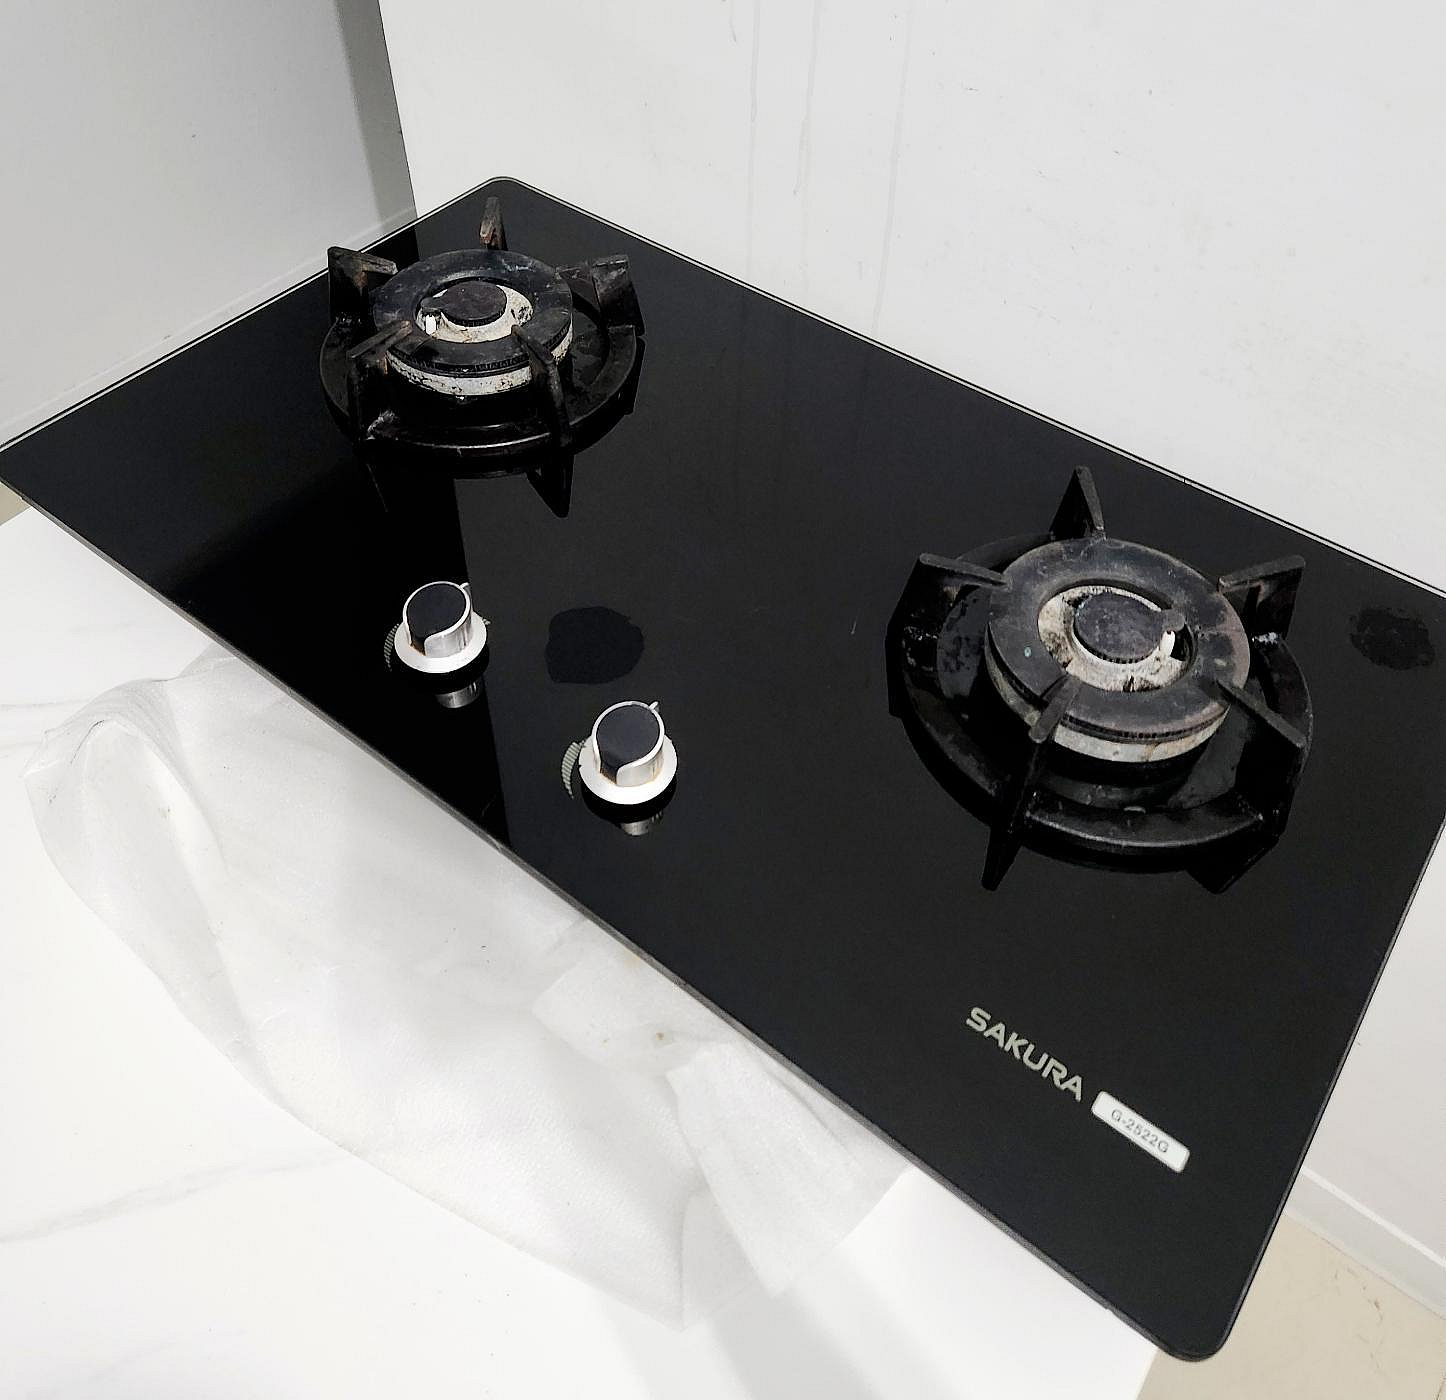gasoven: (12, 129, 1446, 1372)
